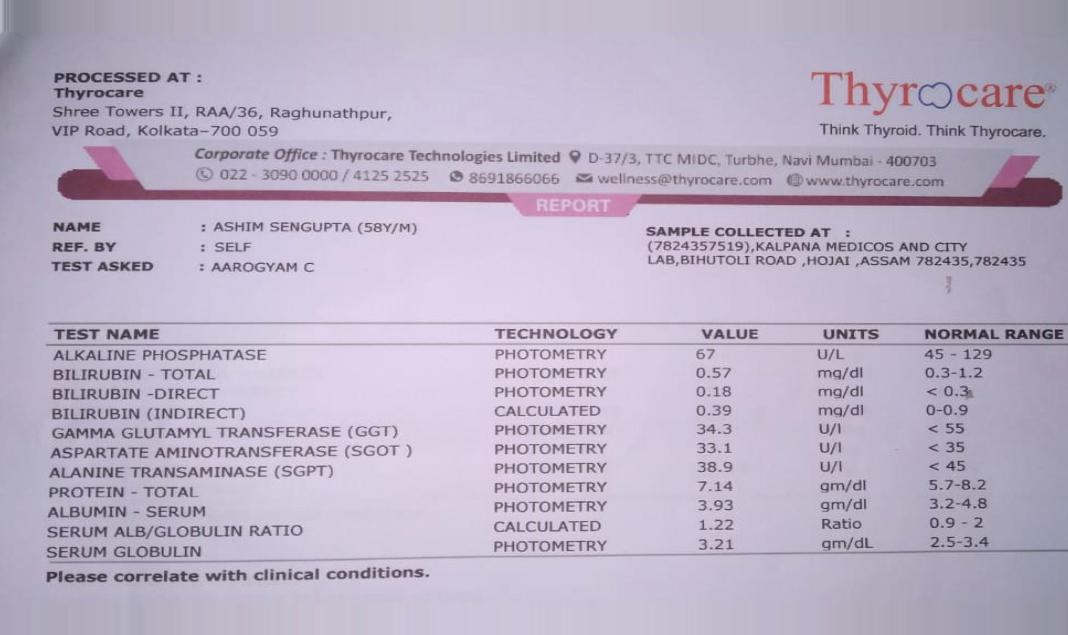Reference Range: (918, 345, 1002, 557)
Test Name: (39, 343, 421, 563)
Units: (808, 342, 887, 556)
Value: (687, 342, 752, 556)
